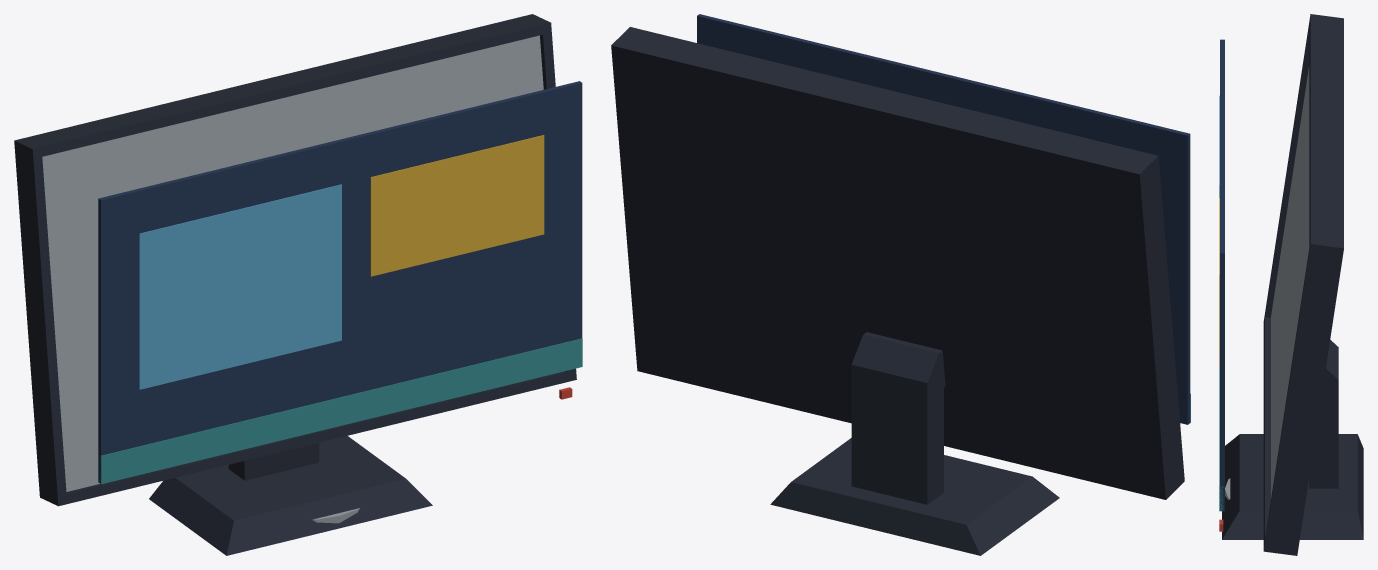
The model's file is computerScreen.glb.
3 views of the same model, side by side, from view 1: azimuth 30°, elevation 25°; view 2: azimuth 150°, elevation 25°; view 3: azimuth 270°, elevation 25° (orthographic). The views are drawn at different scales.
Visible parts, largest first — view 1: computerScreen(Clone); view 2: computerScreen(Clone); view 3: computerScreen(Clone).
Boxes of the visible parts, x1,y1,x2,y2 form: computerScreen(Clone): (14,14,582,555); computerScreen(Clone): (611,14,1190,555); computerScreen(Clone): (1219,14,1363,555).
Bounding box in the file's own units: 0.3927 × 0.2943 × 0.104.
